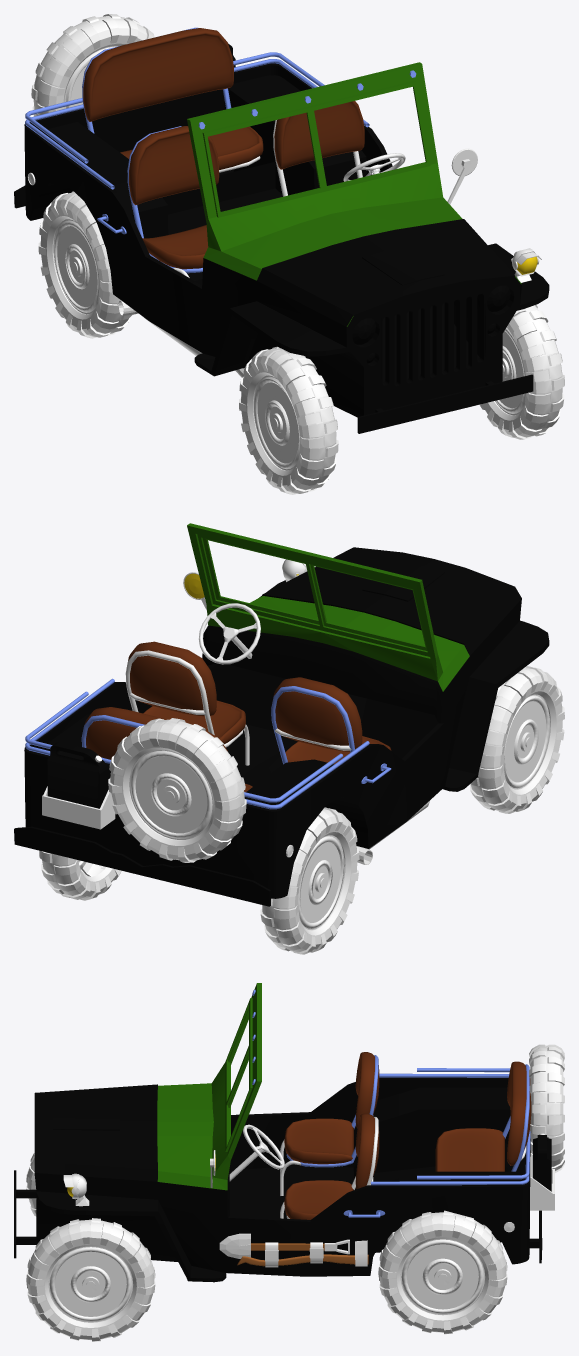
File: Jeep LOD 2.fbx
3 views of the same model, one above another, from view 1: azimuth 30°, elevation 25°; view 2: azimuth 150°, elevation 25°; view 3: azimuth 270°, elevation 25° (orthographic). The views are drawn at different scales.
Parts seen in each view (by area): view 1: Jeep carrosserie; view 2: Jeep carrosserie; view 3: Jeep carrosserie.
Boxes of the visible parts, x1,y1,x2,y2 form: Jeep carrosserie: (14, 14, 564, 494); Jeep carrosserie: (14, 523, 564, 954); Jeep carrosserie: (14, 983, 564, 1341).
Size of the model in its own units: 60.97 by 60.85 by 118.
